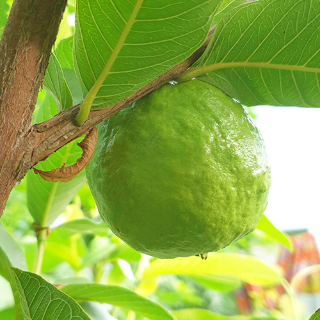oi: (79, 68, 273, 259)
